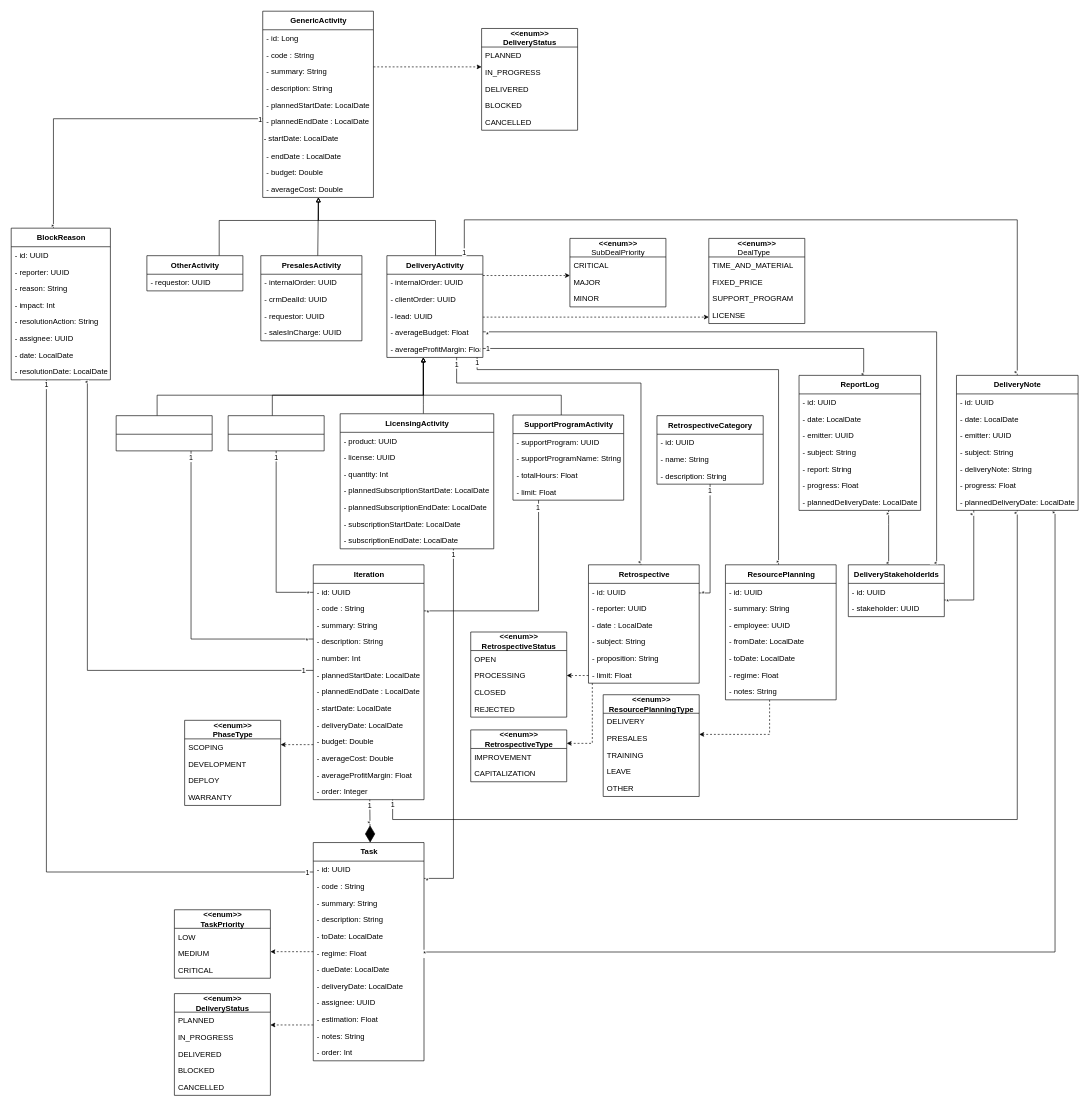
The diagram is 1089 pixels wide and 1108 high, and some of its shapes have lost their labels. The centre of each missing label's shape, as x and y in pixels:
"FixedPriceActivity" goes at pixel 276 433.
"TimeAndMaterialActivity" goes at pixel 164 433.
